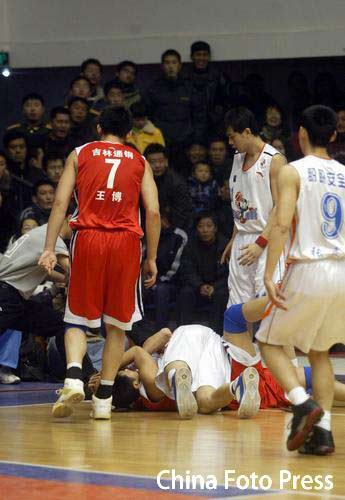10+: (1, 37, 345, 463)
down: (144, 321, 264, 423), (105, 359, 292, 414)
